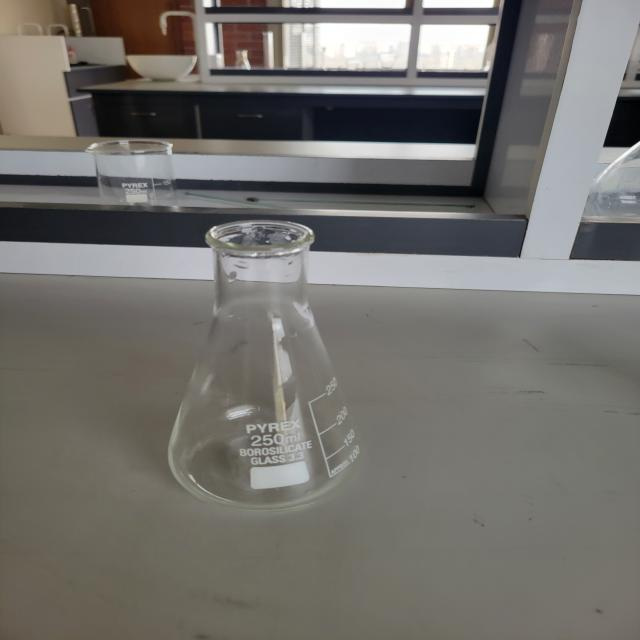Conical_Flask: (155, 206, 384, 534)
